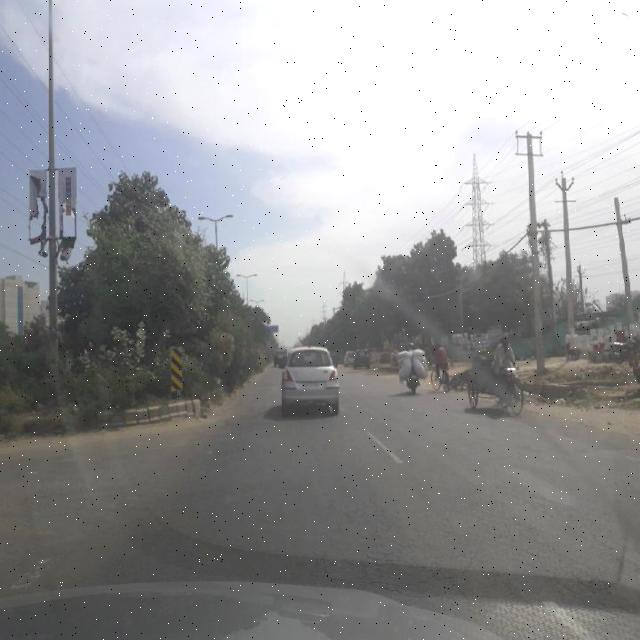D20: (111, 412, 629, 620)
